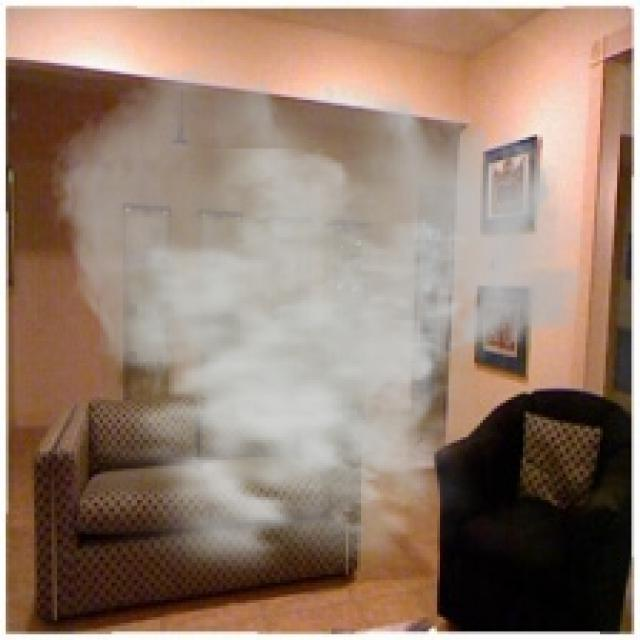smoke: (46, 57, 591, 600)
